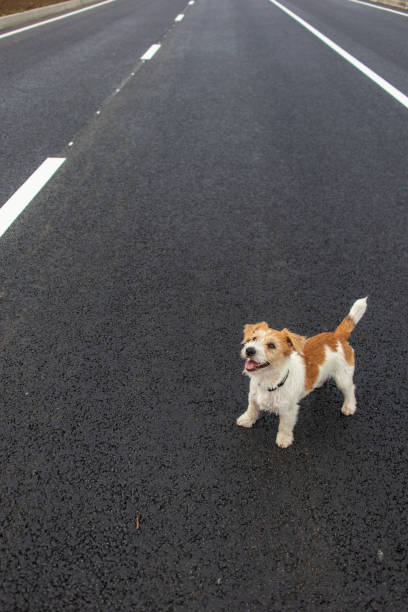kopek: (225, 287, 397, 451)
